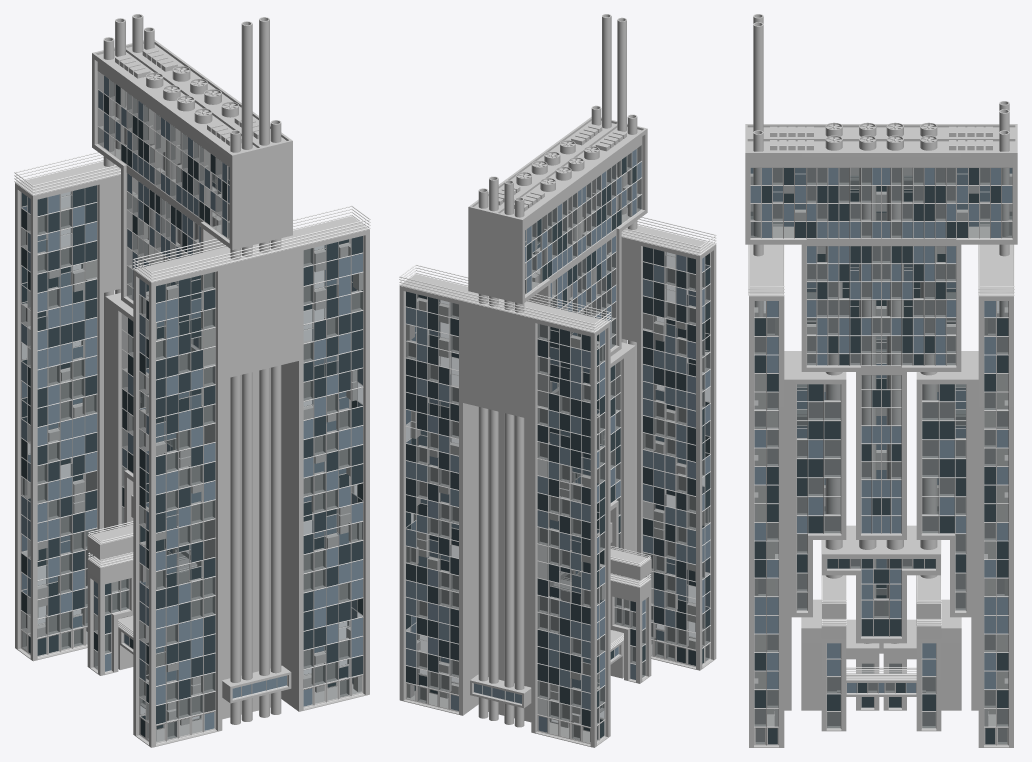
Rendered from building-3.glb.
The picture shows the model from 3 angles, left to right: view 1: azimuth 30°, elevation 25°; view 2: azimuth 150°, elevation 25°; view 3: azimuth 270°, elevation 25°; orthographic projection. The views are drawn at different scales.
Visible parts, largest first — view 1: Box21_01___Default_0_596, glass03_glass_3_0_615, glass03_glass_2_0_614, frame03_Material__82838964_0_612, Object_wal_int_0_627, glass03_glass_0_616, Object142_glass_88_0_629, Cylinder25_01___Default_0_606, Object_19___Default_b44_0_626, Cylinder26_01___Default_0_608, Cylinder24_01___Default_0_604, Cylinder28_01___Default_0_610 (+5 smaller); view 2: Box21_01___Default_0_596, glass03_glass_3_0_615, glass03_glass_2_0_614, frame03_Material__82838964_0_612, Object_wal_int_0_627, glass03_glass_0_616, Object142_glass_88_0_629, Cylinder25_01___Default_0_606, Object_19___Default_b44_0_626, Cylinder26_01___Default_0_608, Cylinder24_01___Default_0_604, Cylinder28_01___Default_0_610 (+5 smaller); view 3: Box21_01___Default_0_596, frame03_Material__82838964_0_612, glass03_glass_2_0_614, Object142_glass_88_0_629, glass03_glass_3_0_615, Object_19___Default_b44_0_626, glass03_glass_0_616, Object_wal_int_0_627, Cylinder28_01___Default_0_610, Cylinder24_01___Default_0_604, Cylinder26_01___Default_0_608, Box22_Material__82838964_0_598 (+1 smaller).
Boxes of the visible parts, x1,y1,x2,y2 form: Box21_01___Default_0_596: (15,40,369,747); glass03_glass_3_0_615: (21,84,362,737); glass03_glass_2_0_614: (21,76,362,730); frame03_Material__82838964_0_612: (20,62,363,744); Object_wal_int_0_627: (21,80,362,741); glass03_glass_0_616: (21,72,362,741); Object142_glass_88_0_629: (21,80,362,739); Cylinder25_01___Default_0_606: (115,14,269,721); Object_19___Default_b44_0_626: (26,84,360,736); Cylinder26_01___Default_0_608: (103,27,281,724); Cylinder24_01___Default_0_604: (146,66,238,563); Cylinder28_01___Default_0_610: (163,78,221,554); Box21_01___Default_0_596: (399,117,716,747); glass03_glass_3_0_615: (406,156,710,738); glass03_glass_2_0_614: (406,149,710,732); frame03_Material__82838964_0_612: (405,137,710,744); Object_wal_int_0_627: (406,153,710,741); glass03_glass_0_616: (406,146,709,742); Object142_glass_88_0_629: (406,153,709,740); Cylinder25_01___Default_0_606: (489,14,626,724); Object_19___Default_b44_0_626: (408,156,706,737); Cylinder26_01___Default_0_608: (478,105,637,727); Cylinder24_01___Default_0_604: (516,140,599,583); Cylinder28_01___Default_0_610: (531,151,584,575); Box21_01___Default_0_596: (745,124,1017,747); frame03_Material__82838964_0_612: (750,157,1012,745); glass03_glass_2_0_614: (750,168,1012,692); Object142_glass_88_0_629: (751,168,1011,743); glass03_glass_3_0_615: (754,168,1008,744); Object_19___Default_b44_0_626: (751,168,1011,741); glass03_glass_0_616: (750,168,1012,726); Object_wal_int_0_627: (750,168,1012,744); Cylinder28_01___Default_0_610: (859,122,903,643); Cylinder24_01___Default_0_604: (825,122,937,578); Cylinder26_01___Default_0_608: (753,130,1009,317); Box22_Material__82838964_0_598: (770,126,992,150).
Bounding box in the file's own units: 9.03 × 27.38 × 10.
